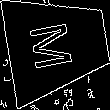M_E: (31, 18, 84, 73)
